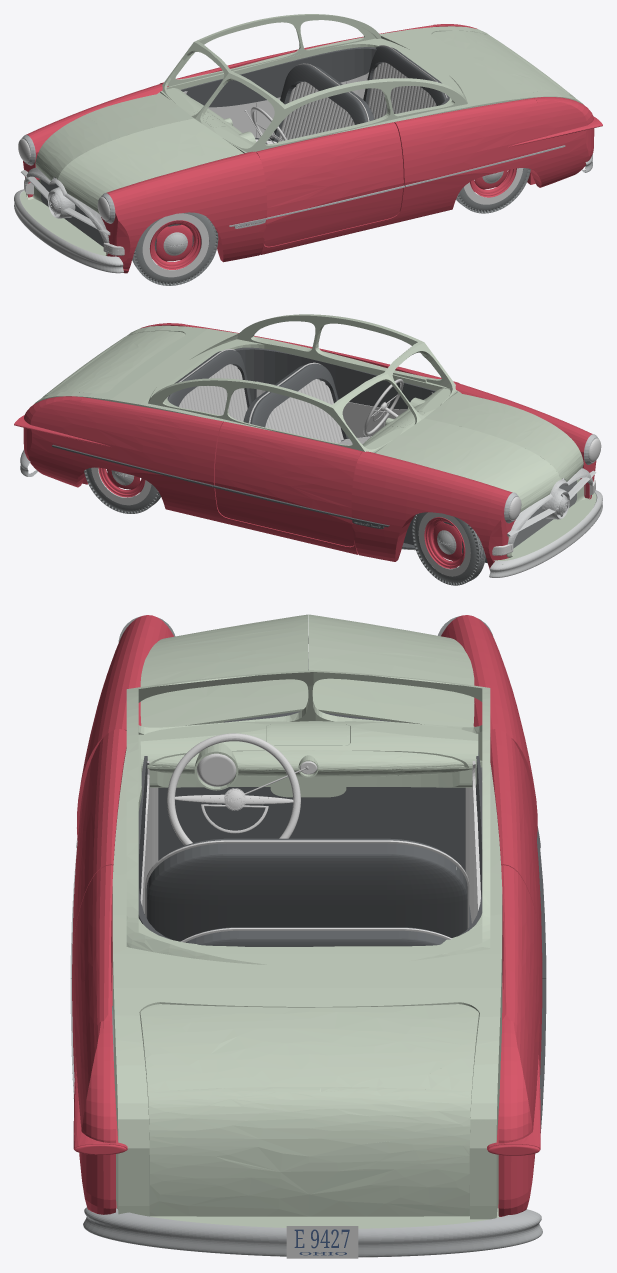
Rendered from wings_of_freedom_car.glb.
3 views of the same model, one above another, from view 1: azimuth 30°, elevation 25°; view 2: azimuth 150°, elevation 25°; view 3: azimuth 270°, elevation 25° (orthographic). The views are drawn at different scales.
Parts seen in each view (by area): view 1: Mesh_Mesh_head_geo.001_lambert2SG.001; view 2: Mesh_Mesh_head_geo.001_lambert2SG.001; view 3: Mesh_Mesh_head_geo.001_lambert2SG.001.
Part boxes in pixels (left/top/right/bottom): Mesh_Mesh_head_geo.001_lambert2SG.001: left=14, top=14, right=602, bottom=285; Mesh_Mesh_head_geo.001_lambert2SG.001: left=14, top=314, right=602, bottom=585; Mesh_Mesh_head_geo.001_lambert2SG.001: left=70, top=614, right=546, bottom=1258.
Size of the model in its own units: 0.297 by 0.085 by 0.119.
